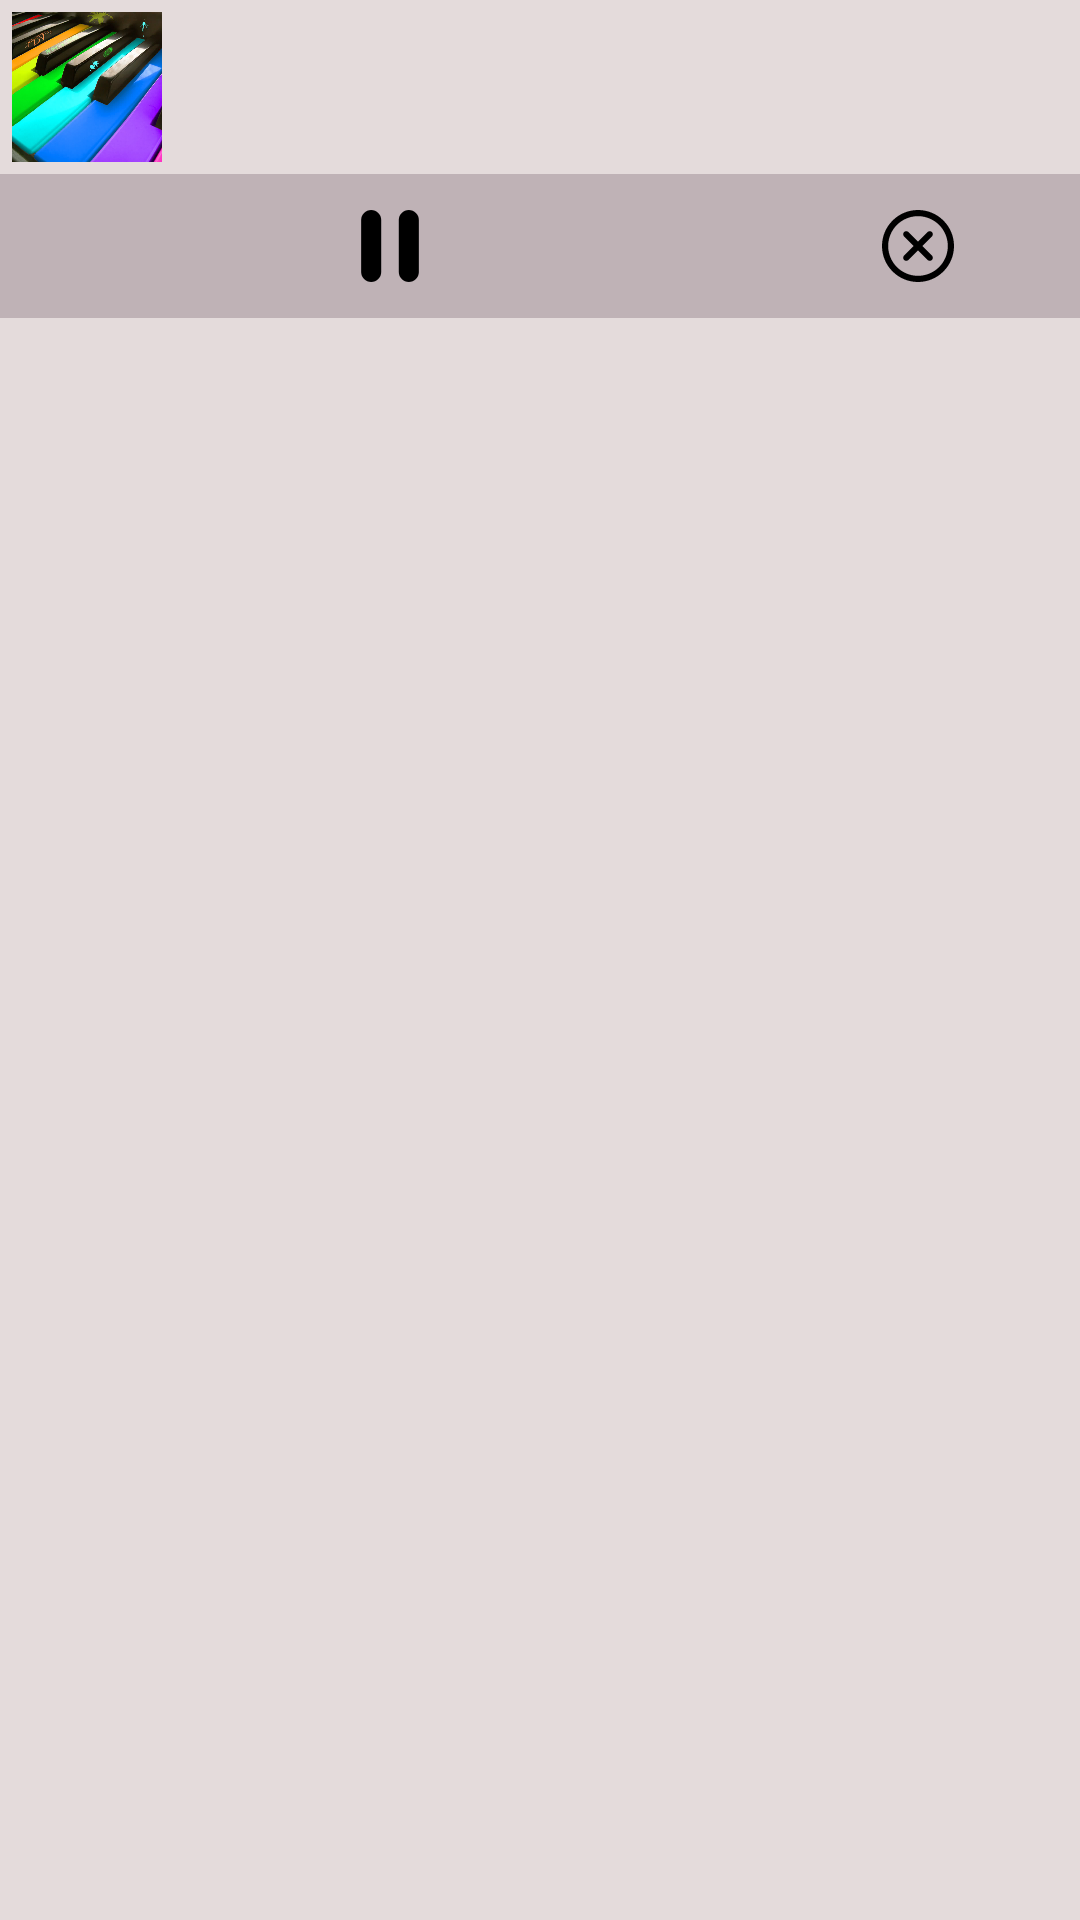

Icon click points for this 1080x1920 phone screenshot, format point (x, y):
delete: point (918, 246)
genre: point (87, 87)
pause: point (390, 246)
